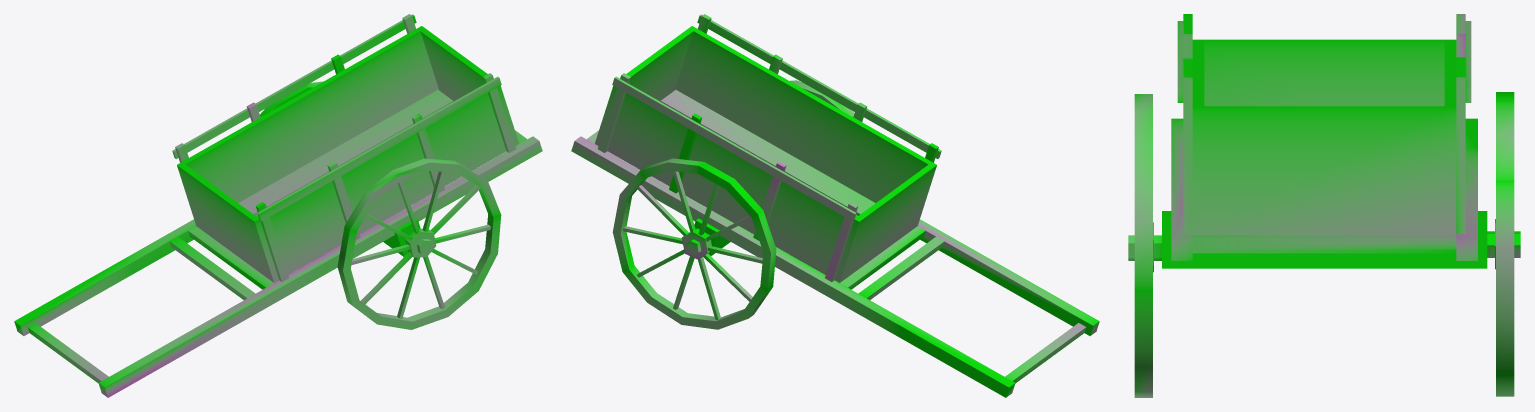
The picture shows the model from 3 angles, left to right: view 1: azimuth 30°, elevation 25°; view 2: azimuth 150°, elevation 25°; view 3: azimuth 270°, elevation 25°; orthographic projection. The views are drawn at different scales.
Visible parts, largest first — view 1: G:\FFXIV-MapTools\exports\f1f2\bg\ffxiv\fst_f1\fld\f1f2\bgpa; view 2: G:\FFXIV-MapTools\exports\f1f2\bg\ffxiv\fst_f1\fld\f1f2\bgpa; view 3: G:\FFXIV-MapTools\exports\f1f2\bg\ffxiv\fst_f1\fld\f1f2\bgpa.
Boxes of the visible parts, left/top/right/bottom form: G:\FFXIV-MapTools\exports\f1f2\bg\ffxiv\fst_f1\fld\f1f2\bgpa: left=14, top=14, right=542, bottom=397; G:\FFXIV-MapTools\exports\f1f2\bg\ffxiv\fst_f1\fld\f1f2\bgpa: left=571, top=14, right=1099, bottom=397; G:\FFXIV-MapTools\exports\f1f2\bg\ffxiv\fst_f1\fld\f1f2\bgpa: left=1128, top=14, right=1520, bottom=397.
Size of the model in its own units: 3.9 by 1.92 by 1.79.
